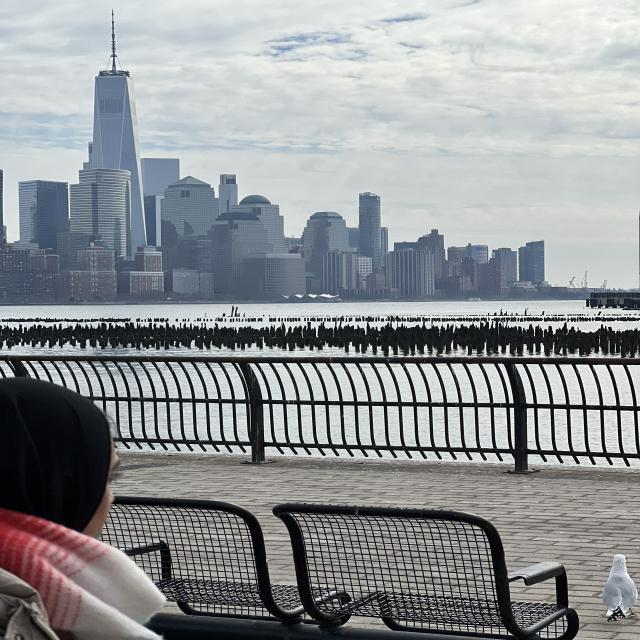WTC: (91, 8, 140, 170)
